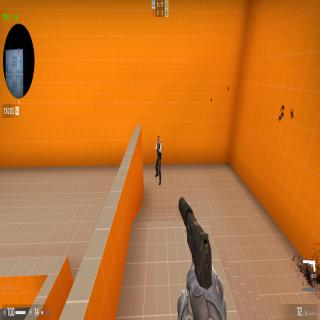T-Body: (155, 135, 162, 186)
T-Head: (157, 135, 160, 144)
